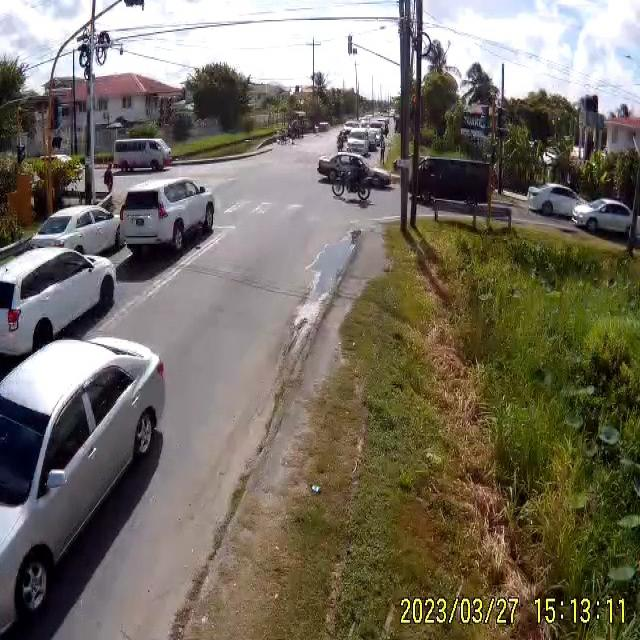car: (0, 336, 165, 638), (0, 242, 120, 373), (120, 178, 216, 253), (406, 152, 492, 209), (32, 205, 124, 255), (574, 199, 633, 237), (112, 139, 173, 173), (317, 153, 368, 189), (528, 184, 579, 218), (344, 134, 368, 154), (315, 123, 328, 131)
motorbike: (333, 152, 370, 205)
